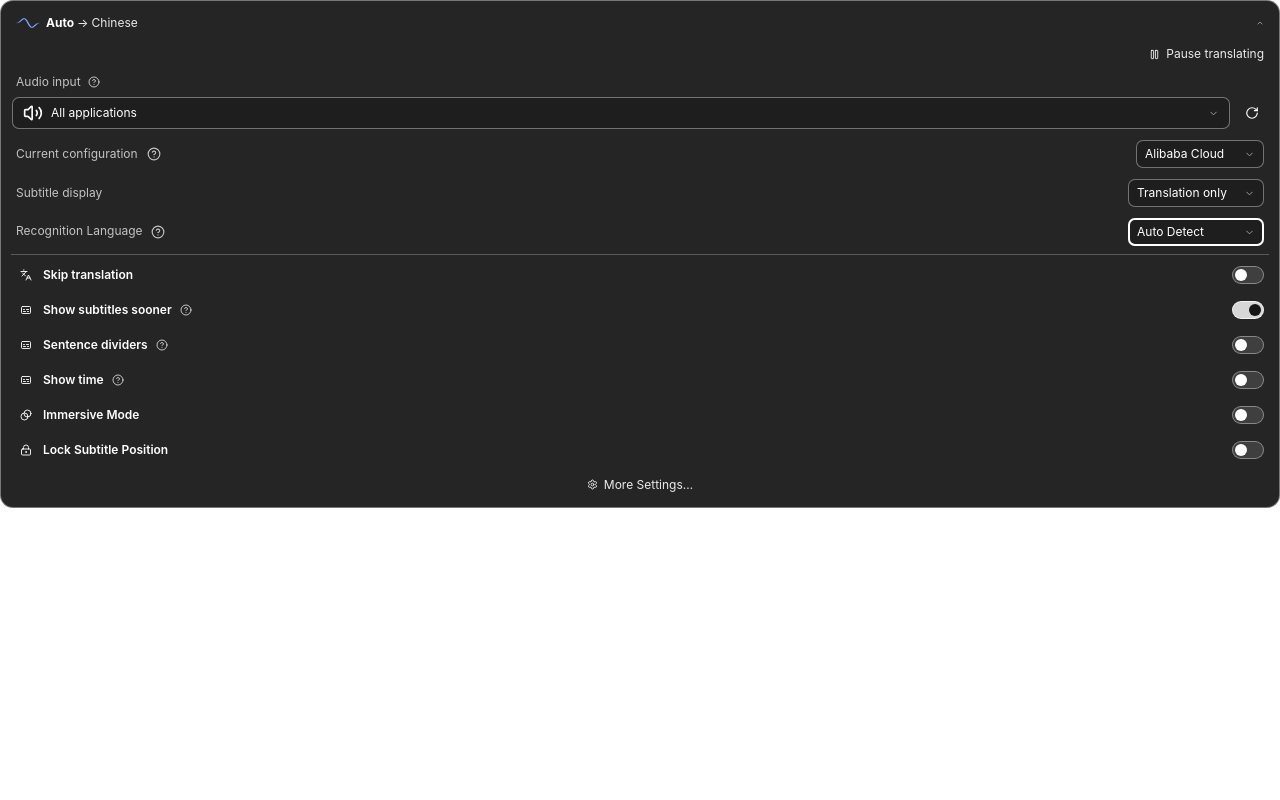
Scenario: blocks conflicting operations and retains an inline error after a failed toggle
Click the switch labelled "Immersive Mode": (91,414) [8,399,1272,431]
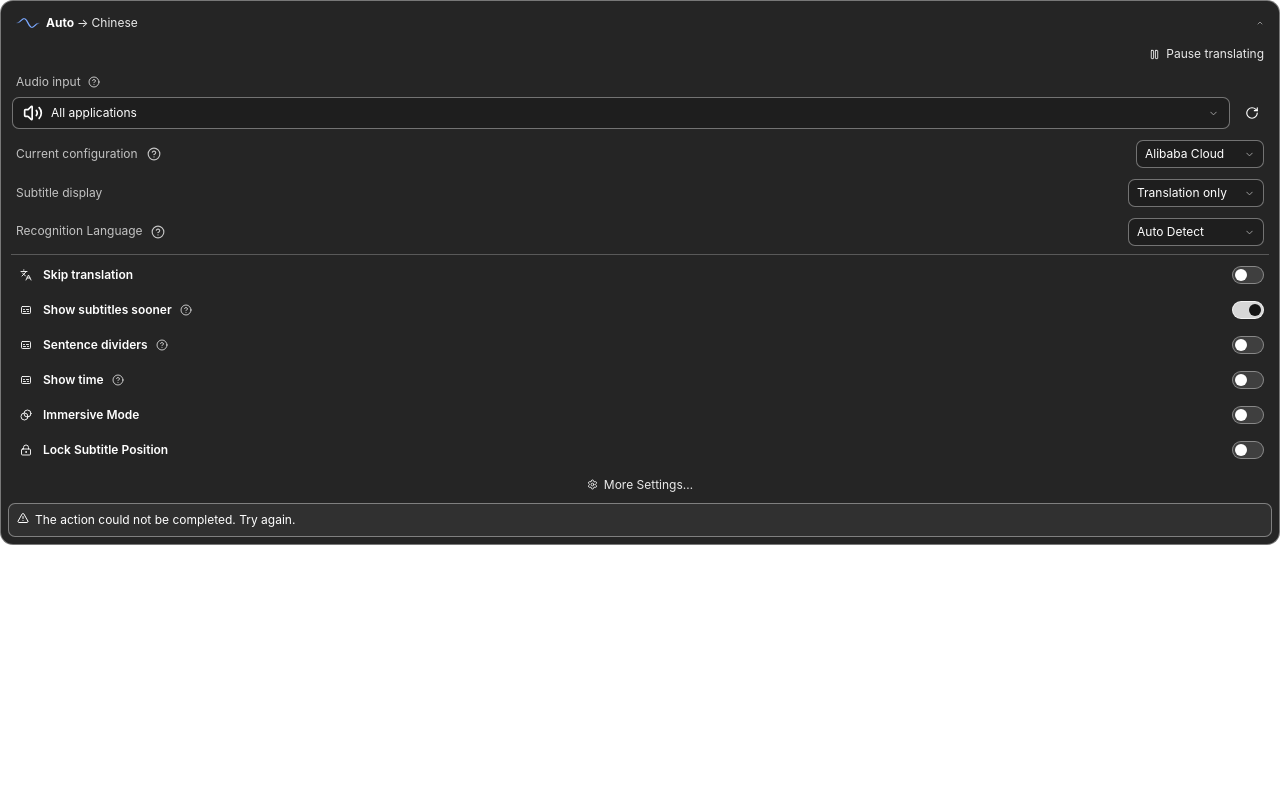
Expected: the message "The action could not be completed. Try again." is shown, [8,503,1272,537]
